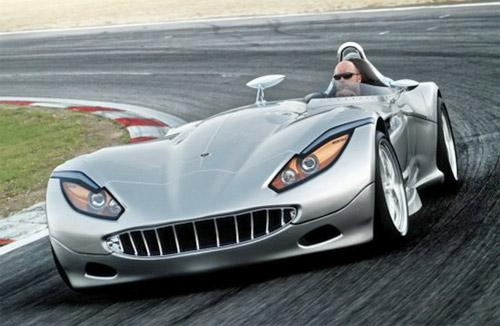small: (43, 41, 461, 293)
